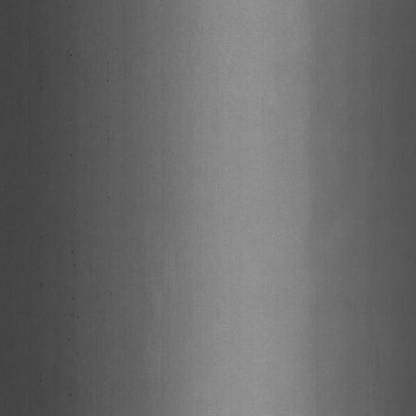inclusion: (64, 47, 79, 66)
